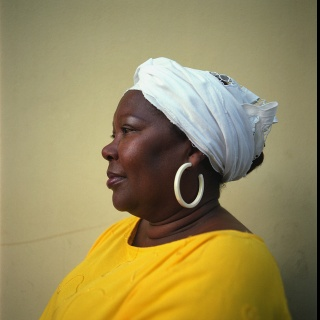without_mask: (101, 89, 187, 211)
